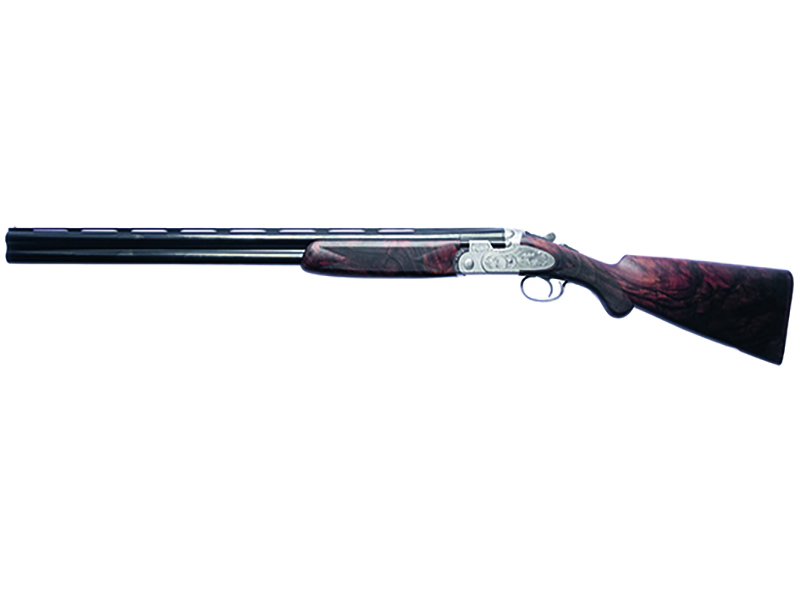fucile: (5, 208, 797, 409)
